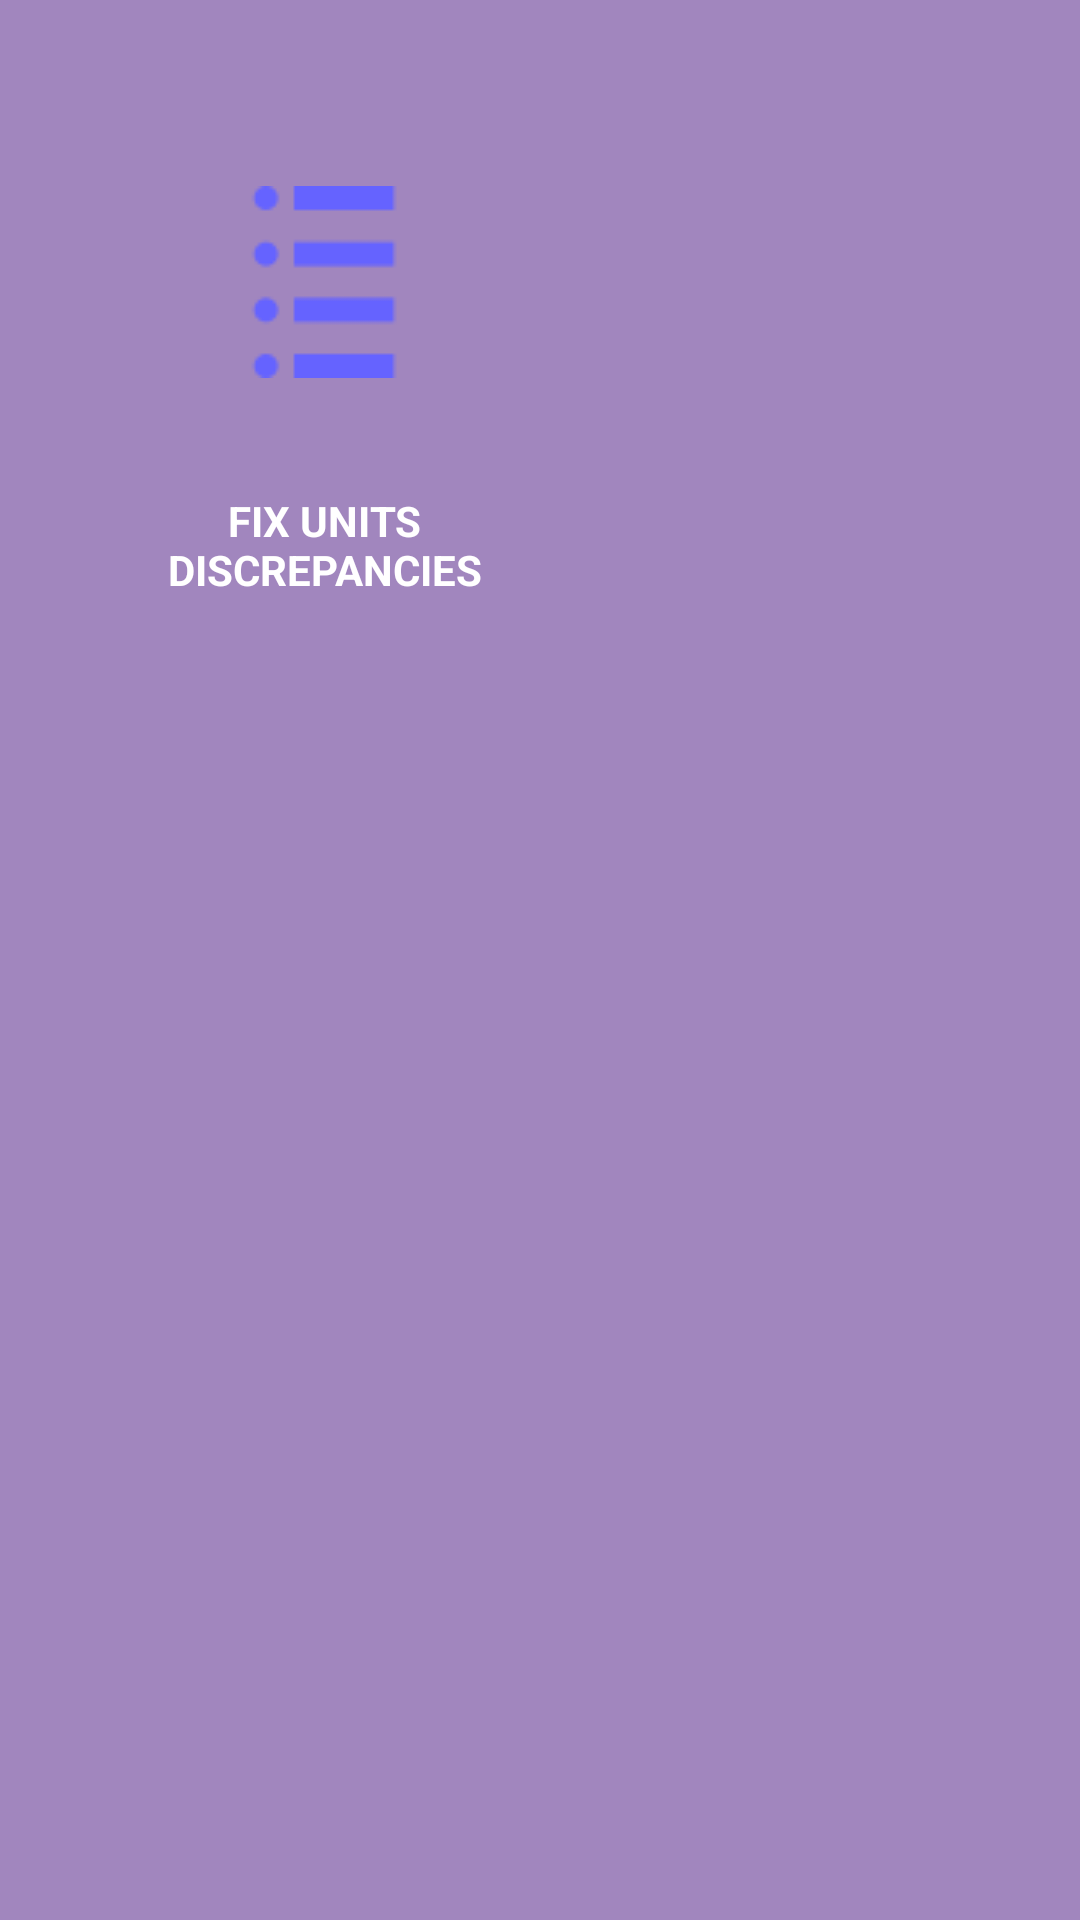

Where icons sit on this 1080w x 1920h app screen, as (x1, y1, x2, y2):
inventory: (254, 186, 394, 378)
